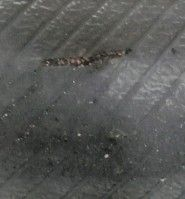CBU: (33, 42, 142, 82)
